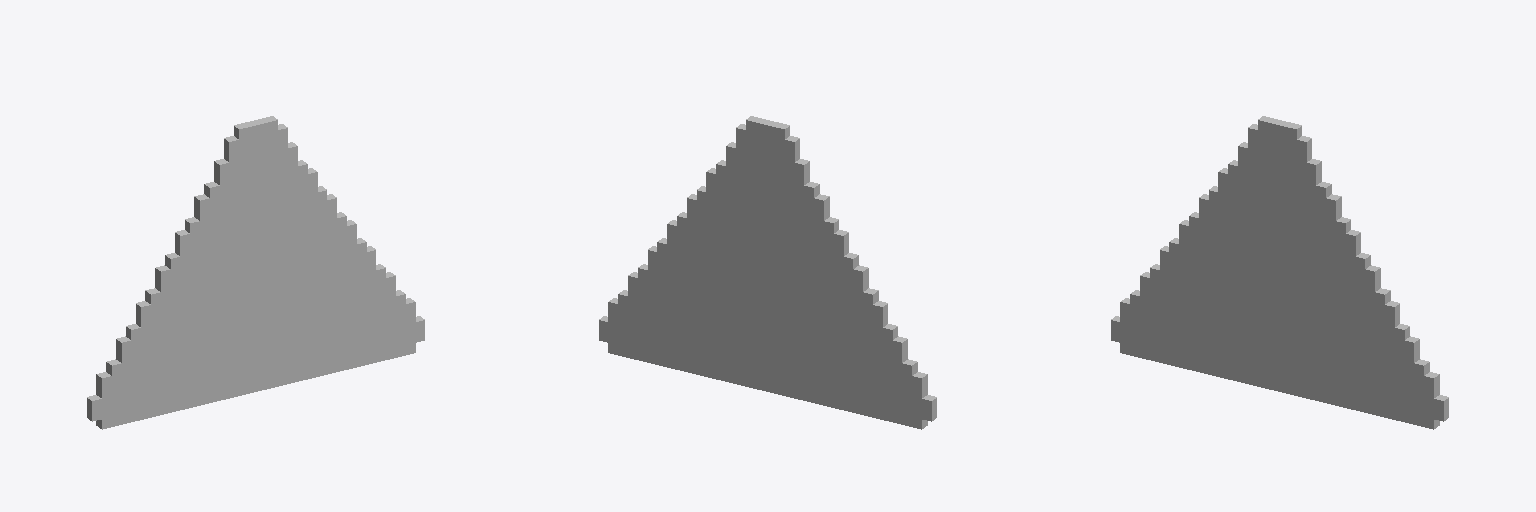
The model's file is explosives sign.obj.
The picture shows the model from 3 angles: view 1: azimuth 30°, elevation 25°; view 2: azimuth 150°, elevation 25°; view 3: azimuth 330°, elevation 25°; orthographic projection.
Parts seen in each view (by area): view 1: object 1; view 2: object 1; view 3: object 1.
Boxes of the visible parts, box(x1,y1,x2,y2) form: object 1: box(87, 116, 424, 429); object 1: box(599, 116, 936, 429); object 1: box(1111, 116, 1448, 429).
Bounding box in the file's own units: 3.4 × 2.6 × 0.1.